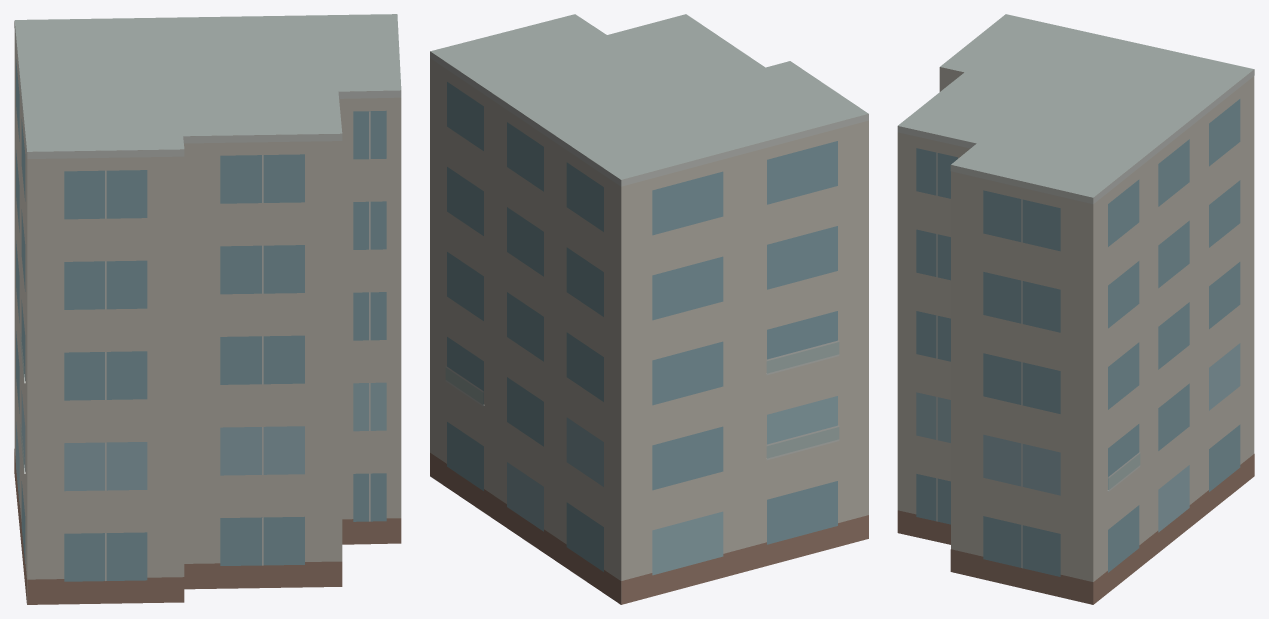
The model's file is survey-upis-32812397.glb.
The picture shows the model from 3 angles, left to right: view 1: azimuth 30°, elevation 25°; view 2: azimuth 150°, elevation 25°; view 3: azimuth 270°, elevation 25°; orthographic projection. The views are drawn at different scales.
Visible parts, largest first — view 1: survey-upis-32812397.tmp; view 2: survey-upis-32812397.tmp; view 3: survey-upis-32812397.tmp.
Part boxes in pixels (left/top/right/bottom): survey-upis-32812397.tmp: left=14, top=14, right=401, bottom=604; survey-upis-32812397.tmp: left=430, top=14, right=868, bottom=604; survey-upis-32812397.tmp: left=897, top=14, right=1254, bottom=604.
Bounding box in the file's own units: 14.77 × 15.25 × 12.12.
